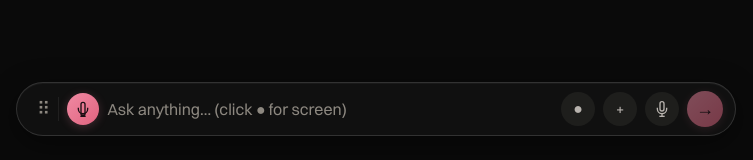
OverlayAssistant › tells the user in the UI when the browser cannot dictate, rather than alerting
The width and height of the screenshot is (753, 160).
Click the button titled "Dictate": click(662, 109) [645, 92, 679, 126]
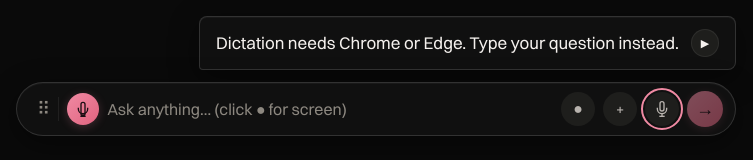
Expected: the text "Dictation needs Chrome or Edge. Type your question instead." is shown, [216, 29, 679, 56]
